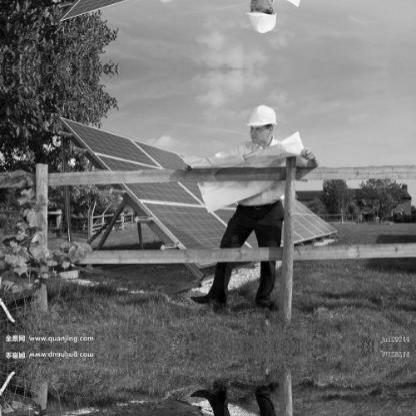helmet: (245, 101, 279, 150), (245, 0, 280, 38)
